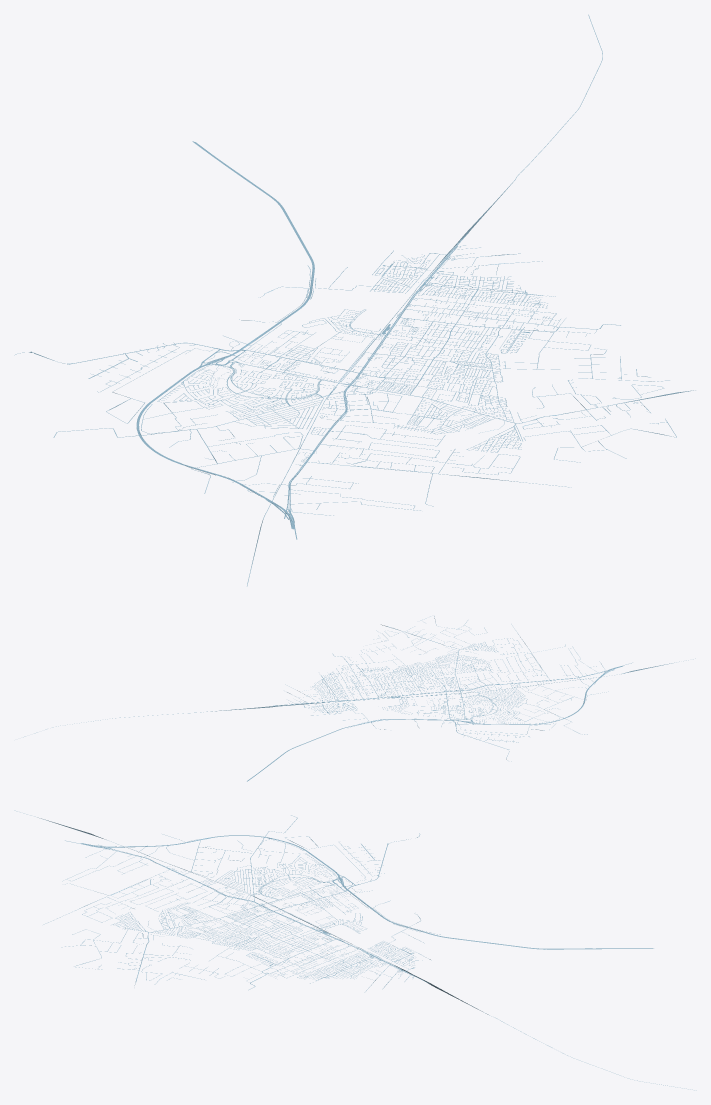
File: roads.glb
The picture shows the model from 3 angles, top to bottom: view 1: azimuth 30°, elevation 25°; view 2: azimuth 150°, elevation 25°; view 3: azimuth 270°, elevation 25°; orthographic projection. The views are drawn at different scales.
Visible parts, largest first — view 1: roads; view 2: roads; view 3: roads.
Boxes of the visible parts, <box> form: roads: <box>14,14,695,586</box>; roads: <box>23,616,695,781</box>; roads: <box>14,810,696,1090</box>.
Bounding box in the file's own units: 11446 × 69.05 × 11784.
